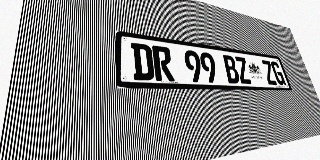9: (183, 49, 204, 82), (199, 51, 219, 83)
B: (222, 55, 241, 84)
D: (131, 42, 155, 81)
G: (270, 61, 286, 85)
R: (152, 45, 175, 81)
Z: (234, 56, 252, 84), (261, 60, 278, 85)
